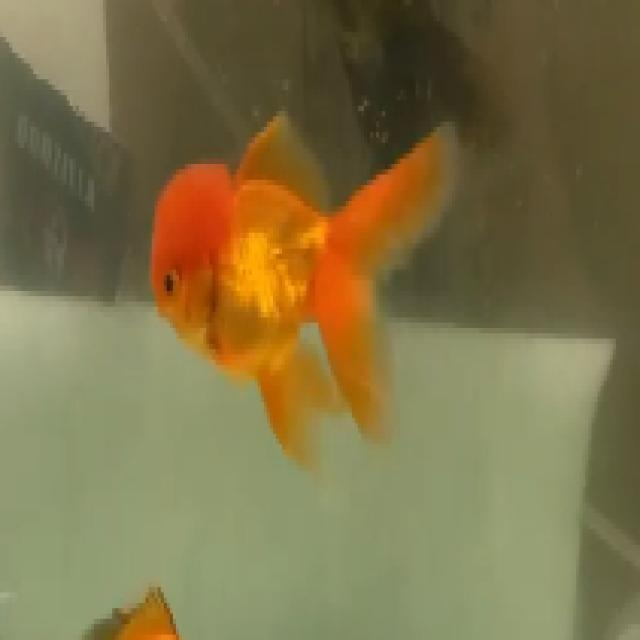Gold-Fish: (85, 42, 512, 490)
